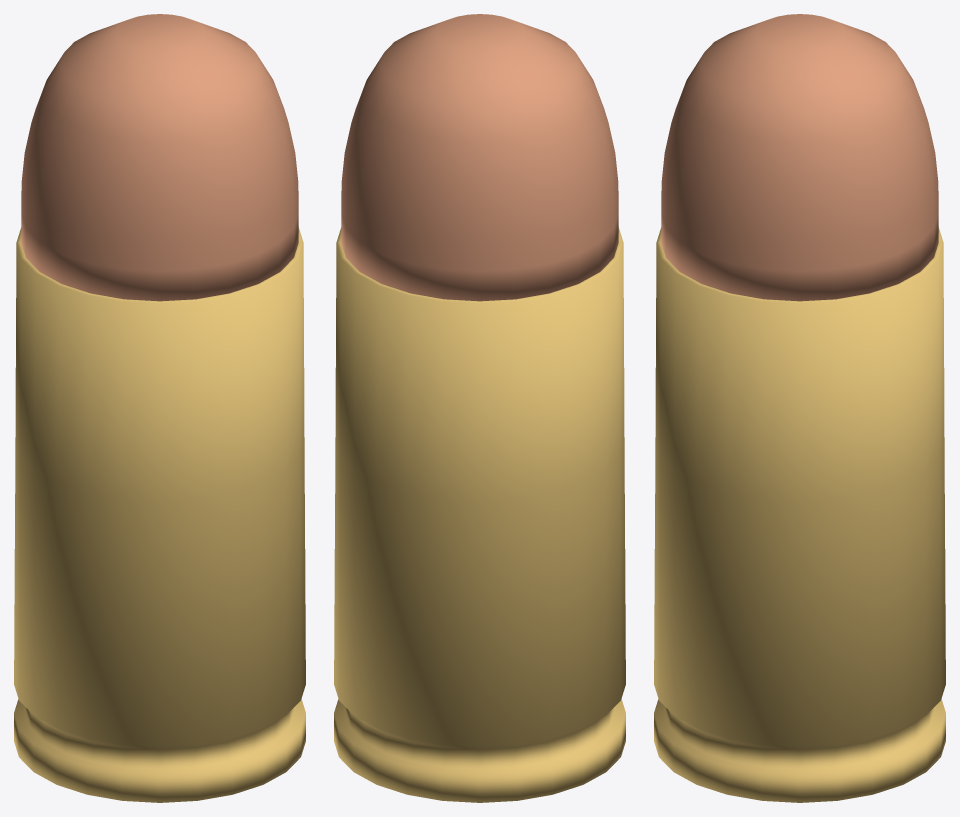
File: 45acp_std.glb
3 renders of one model, left to right at view 1: azimuth 30°, elevation 25°; view 2: azimuth 150°, elevation 25°; view 3: azimuth 270°, elevation 25°, orthographic.
Visible parts, largest first — view 1: vaina, bala; view 2: vaina, bala; view 3: vaina, bala.
Part boxes in pixels (box(x1,y1,x2,y2)): vaina: box(14, 227, 305, 802); bala: box(21, 14, 298, 301); vaina: box(334, 227, 625, 802); bala: box(341, 14, 618, 301); vaina: box(654, 227, 945, 802); bala: box(661, 14, 938, 301).
Bounding box in the file's own units: 0.0121 × 0.0324 × 0.0121.
